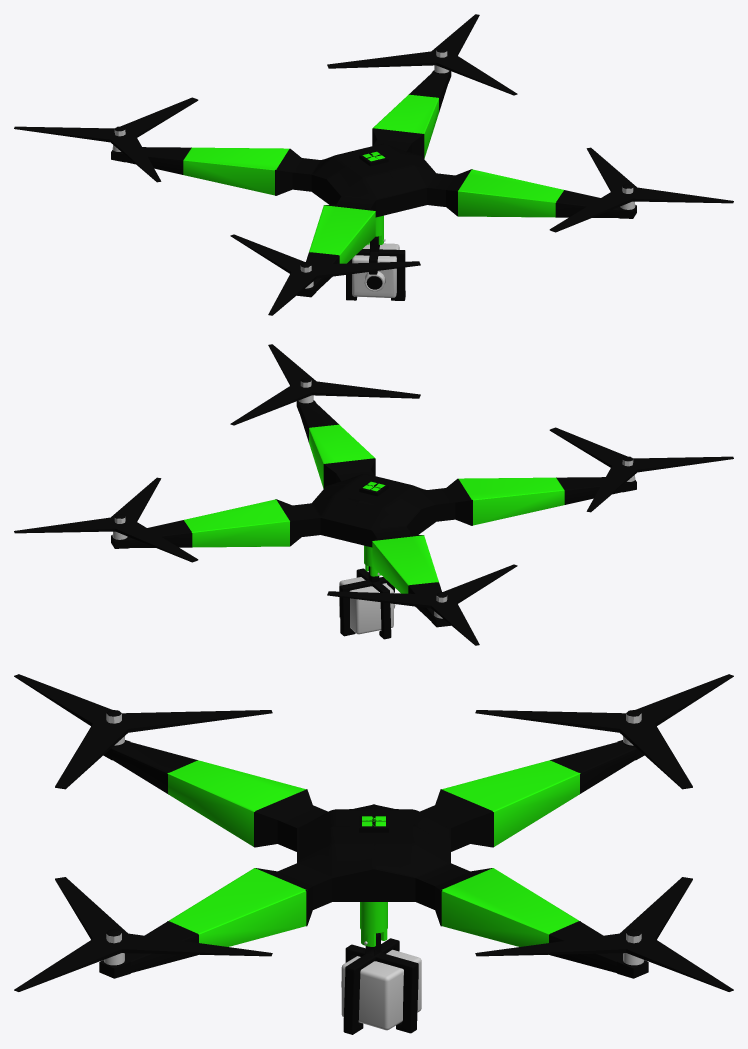
Rendered from drone.obj.
3 renders of one model, top to bottom at view 1: azimuth 30°, elevation 25°; view 2: azimuth 150°, elevation 25°; view 3: azimuth 270°, elevation 25°, orthographic. The views are drawn at different scales.
Parts seen in each view (by area): view 1: main_Cube, blad_Circle.001, camara_Cube.002, locetion_controler_Cube.001; view 2: main_Cube, blad_Circle.001, locetion_controler_Cube.001, camara_Cube.002; view 3: main_Cube, blad_Circle.001, camara_Cube.002, locetion_controler_Cube.001, rotetion_controler_Cylinder.
Part boxes in pixels (left/top/right/bottom): main_Cube: left=111, top=48, right=636, bottom=297; blad_Circle.001: left=14, top=14, right=733, bottom=315; camara_Cube.002: left=352, top=243, right=399, bottom=297; locetion_controler_Cube.001: left=346, top=236, right=405, bottom=300; main_Cube: left=111, top=378, right=636, bottom=627; blad_Circle.001: left=14, top=344, right=733, bottom=645; locetion_controler_Cube.001: left=339, top=566, right=394, bottom=639; camara_Cube.002: left=339, top=577, right=395, bottom=634; main_Cube: left=99, top=710, right=648, bottom=978; blad_Circle.001: left=14, top=674, right=733, bottom=991; camara_Cube.002: left=341, top=949, right=421, bottom=1030; locetion_controler_Cube.001: left=343, top=933, right=418, bottom=1034; rotetion_controler_Cylinder: left=360, top=902, right=387, bottom=946.
Size of the model in its own units: 9.8 by 2.86 by 9.39.
